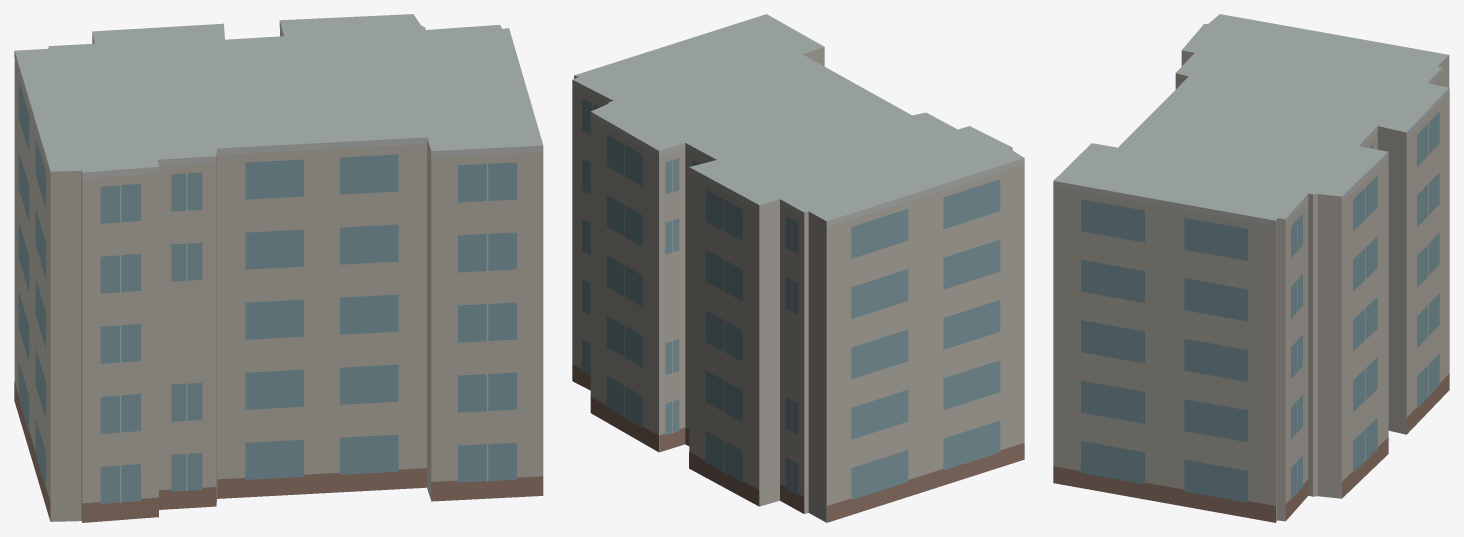
The model's file is survey-upis-32598764.glb.
The picture shows the model from 3 angles, left to right: view 1: azimuth 30°, elevation 25°; view 2: azimuth 150°, elevation 25°; view 3: azimuth 270°, elevation 25°; orthographic projection. The views are drawn at different scales.
Parts seen in each view (by area): view 1: survey-upis-32598764.tmp; view 2: survey-upis-32598764.tmp; view 3: survey-upis-32598764.tmp.
Boxes of the visible parts, x1,y1,x2,y2 form: survey-upis-32598764.tmp: [14, 14, 543, 522]; survey-upis-32598764.tmp: [572, 14, 1024, 522]; survey-upis-32598764.tmp: [1053, 14, 1449, 522].
Size of the model in its own units: 19.23 by 13.1 by 15.58.
